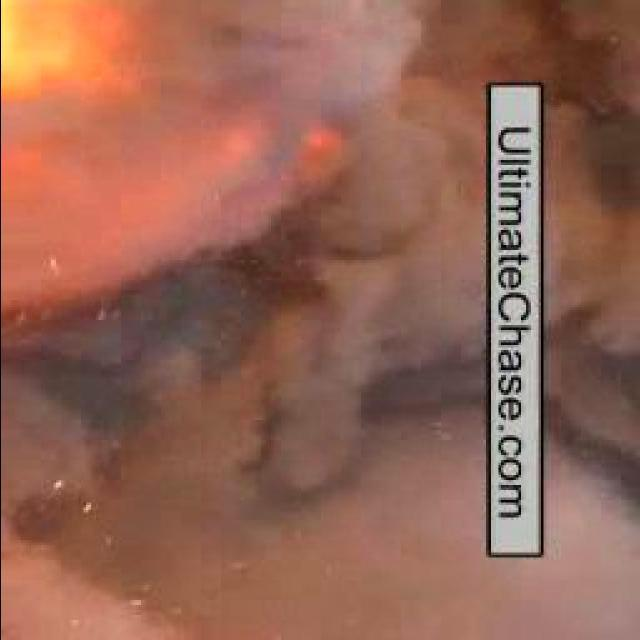Fire: (0, 0, 265, 215), (282, 124, 370, 208)
